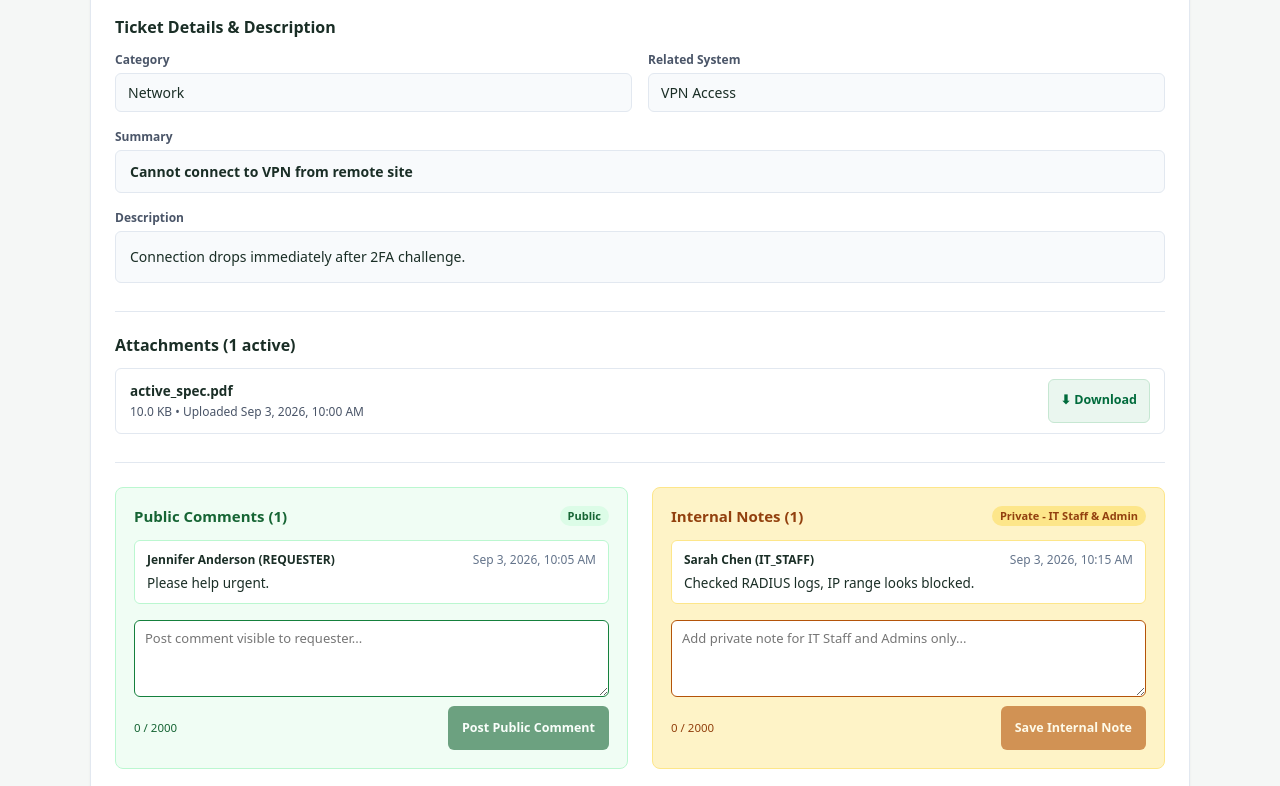
it: UI-05, UI-06, UI-09: Staff Ticket Detail Operations Component › handles attachment download error with 404 missing-file, shows safe callout, and refreshes ticket metadata
(page scrolled)
What coordinates should you click on to do the following:
click the button with test id "btn-staff-download-11"
I would click on:
 (1099, 401)
Its box is [1048, 379, 1150, 423].
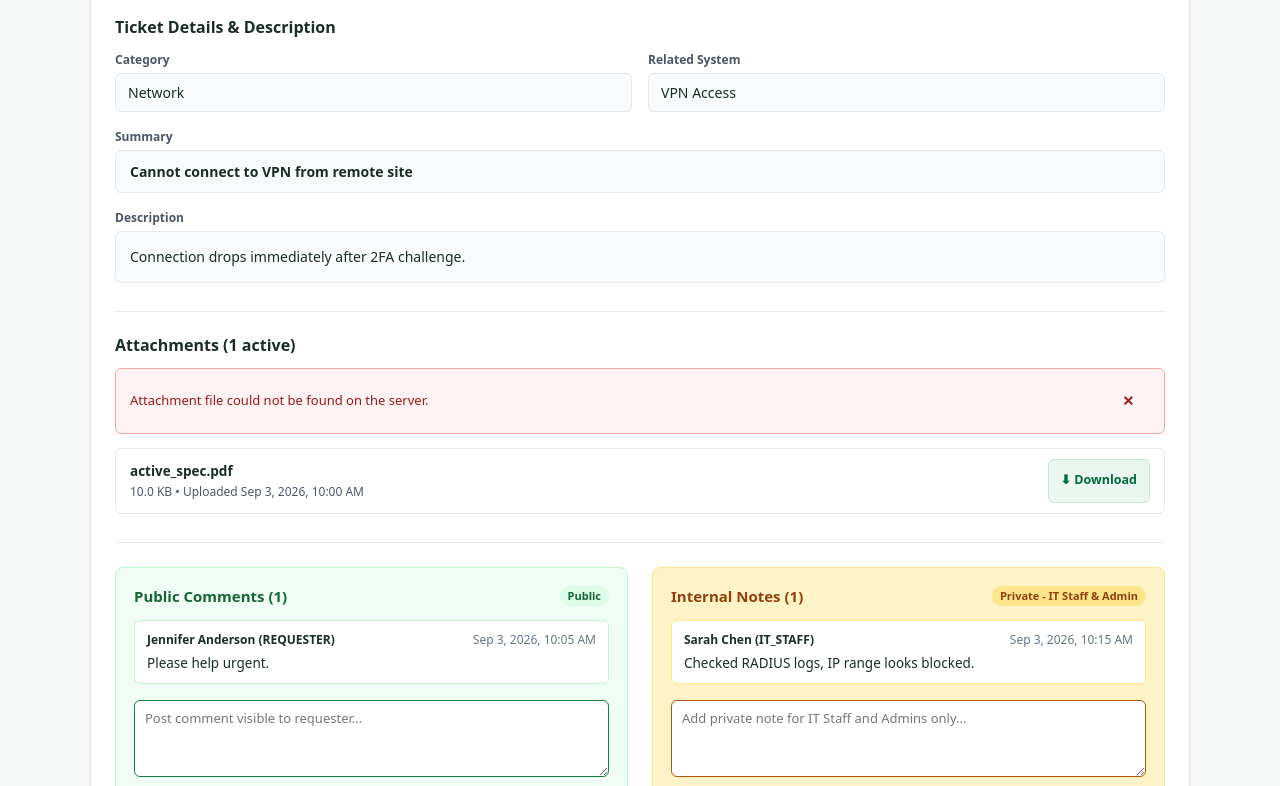
Expected: the message with test id "attachment-download-error" shows "Attachment file could not be found on the server", [130, 391, 428, 409]
